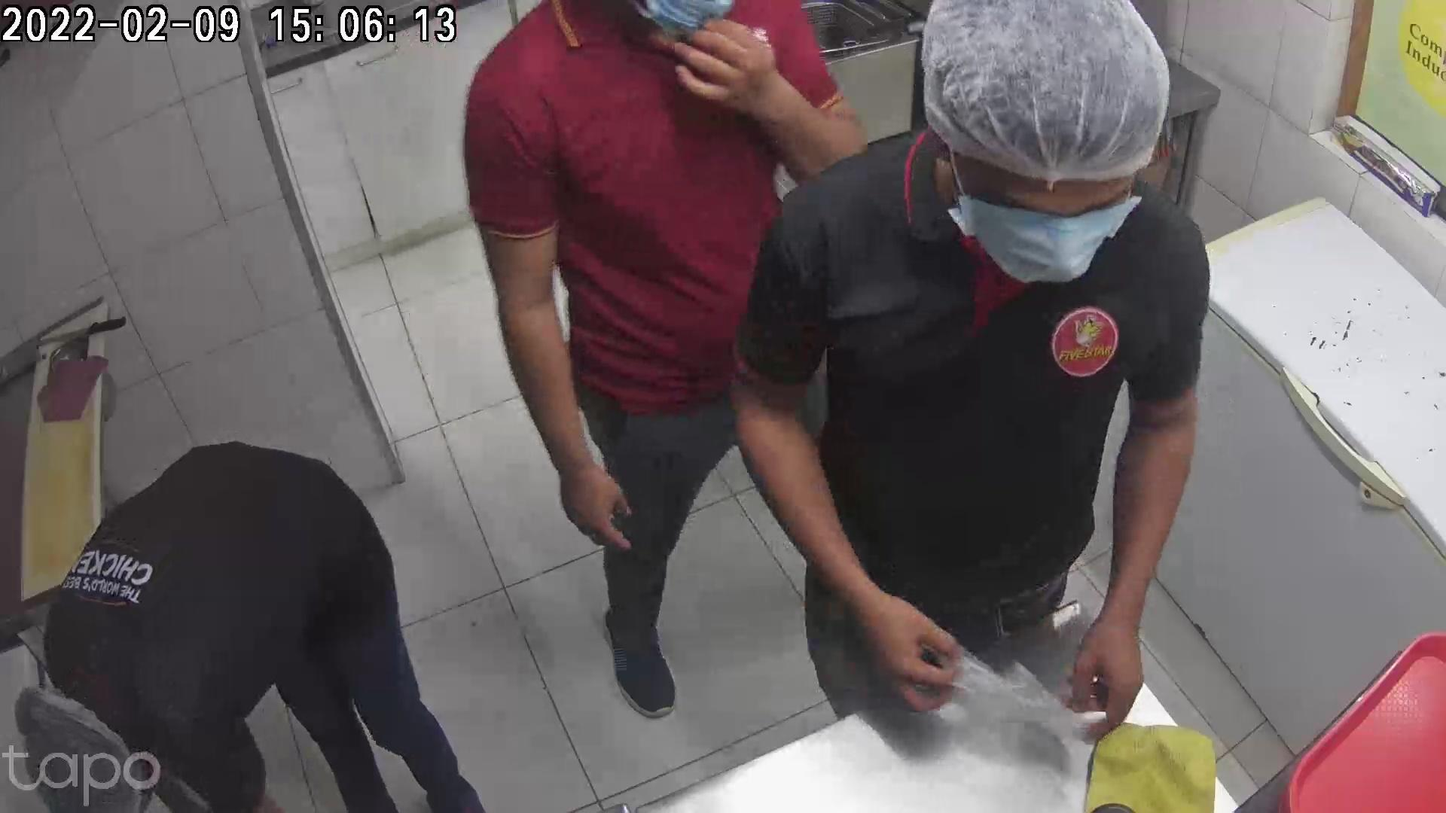no_gloves: (680, 24, 801, 126), (550, 438, 632, 547)
